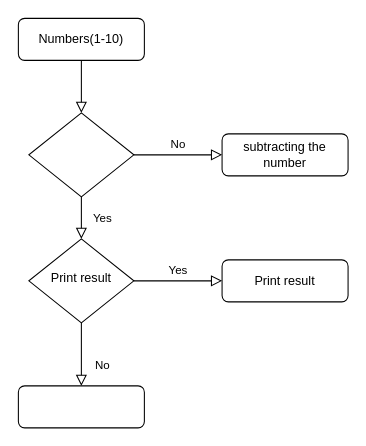
Some shapes in this 366 by 446 pixel diagram are drawn without their labels. Here are the shapes that lost their labels. From the top down, the centre of each, then its label:
the point at 81,154: Adding the number
the point at 80,406: If not addition stop
